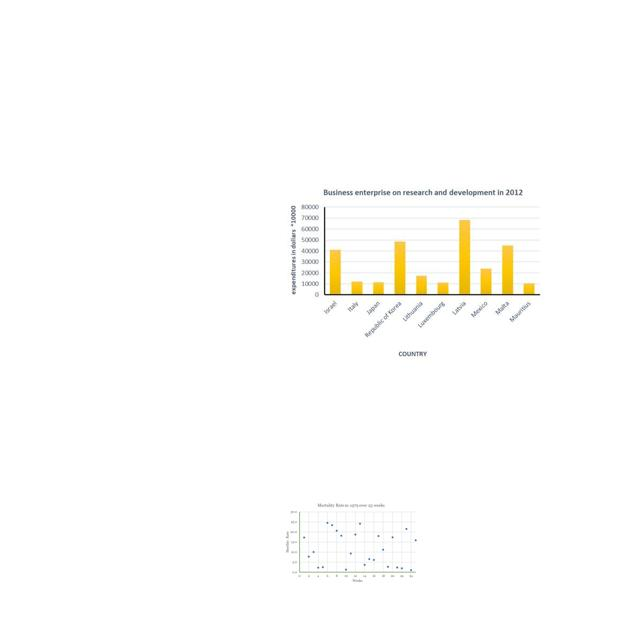Graph: (287, 183, 552, 361), (284, 502, 419, 584)
